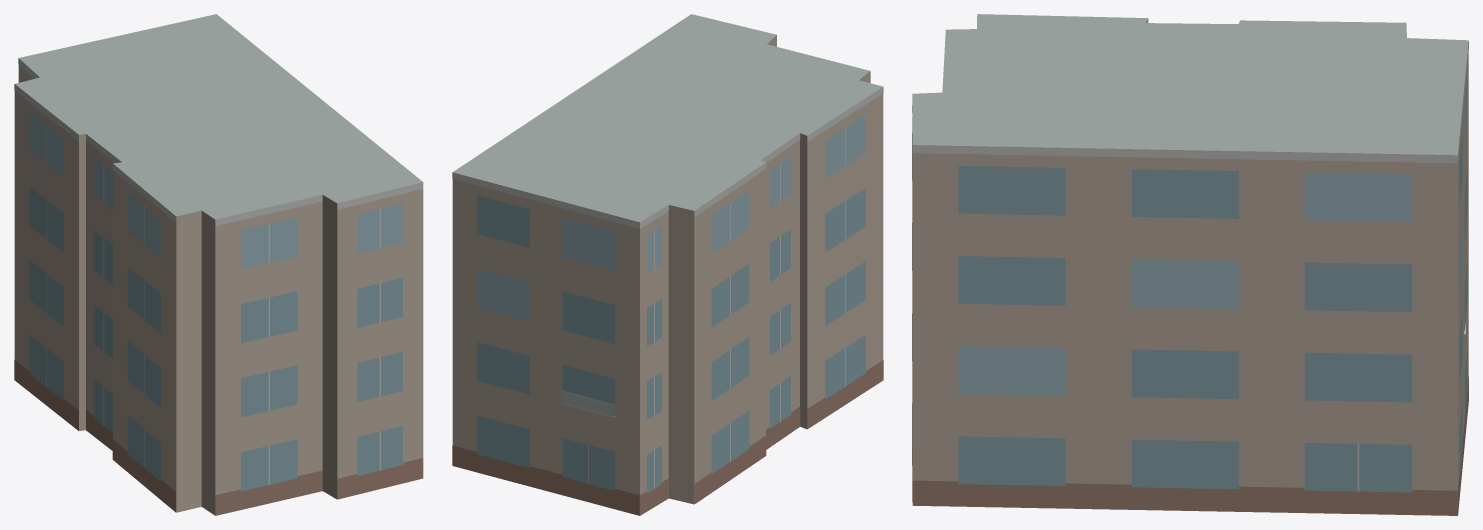
File: survey-upis-32773309.glb
The picture shows the model from 3 angles, left to right: view 1: azimuth 30°, elevation 25°; view 2: azimuth 150°, elevation 25°; view 3: azimuth 270°, elevation 25°; orthographic projection. The views are drawn at different scales.
Visible parts, largest first — view 1: survey-upis-32773309.tmp; view 2: survey-upis-32773309.tmp; view 3: survey-upis-32773309.tmp.
Part boxes in pixels (x1,y1,x2,y2): survey-upis-32773309.tmp: (14, 14, 423, 515); survey-upis-32773309.tmp: (452, 14, 883, 515); survey-upis-32773309.tmp: (912, 14, 1468, 515).
Size of the model in its own units: 9.2 by 10.94 by 15.31.
